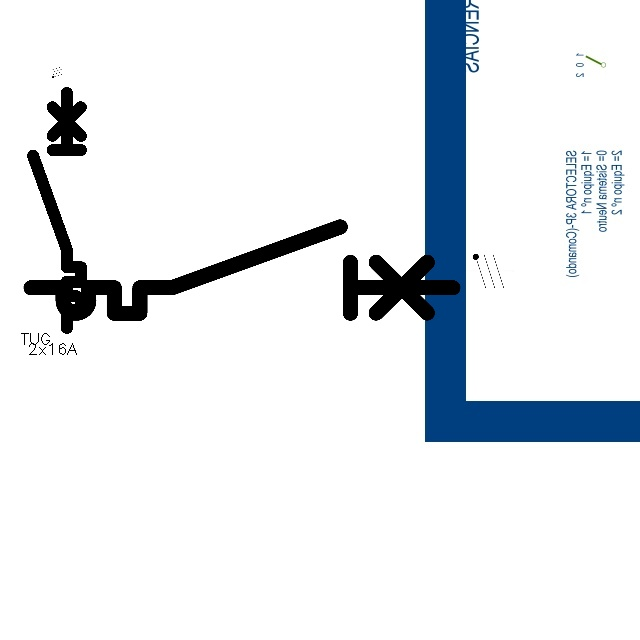interruptor_termomagnetico: (20, 216, 463, 324), (27, 86, 87, 333)
